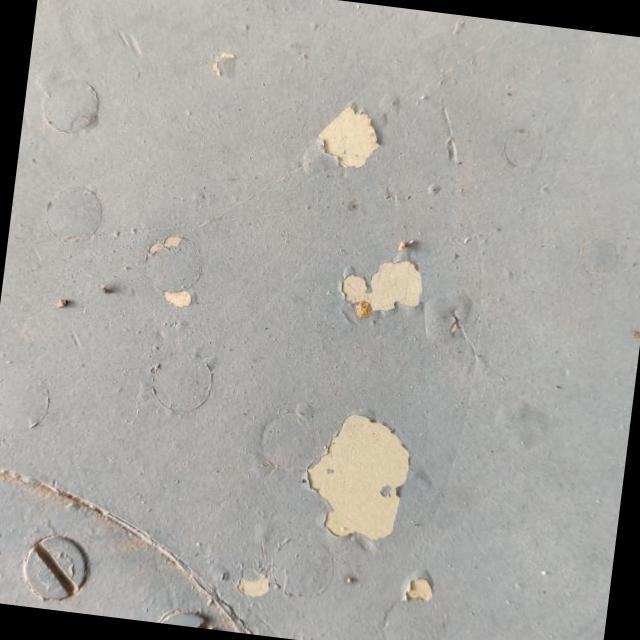Paint-off: (304, 414, 412, 543), (336, 240, 423, 326), (296, 103, 383, 179)
